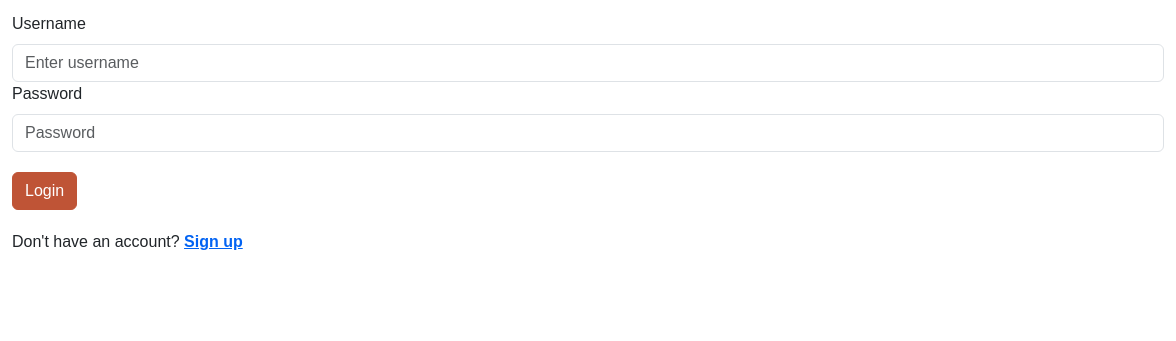
Test: Login Component › displays error message on failed login
The image size is (1176, 341).
Type "wronguser" into the field labelled "Username".
click(588, 63); type("wronguser")  # box [12,44,1164,82]
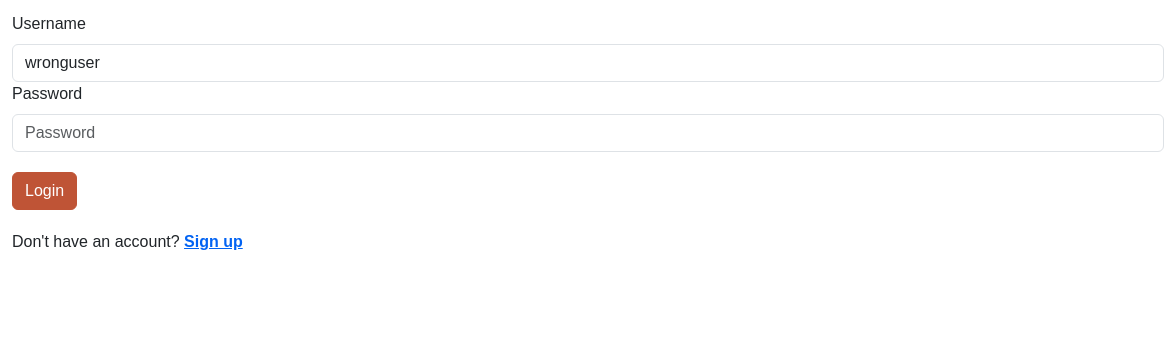
Type "wrongpassword" into the password field labelled "Password".
click(588, 133); type("wrongpassword")  # box [12,114,1164,152]
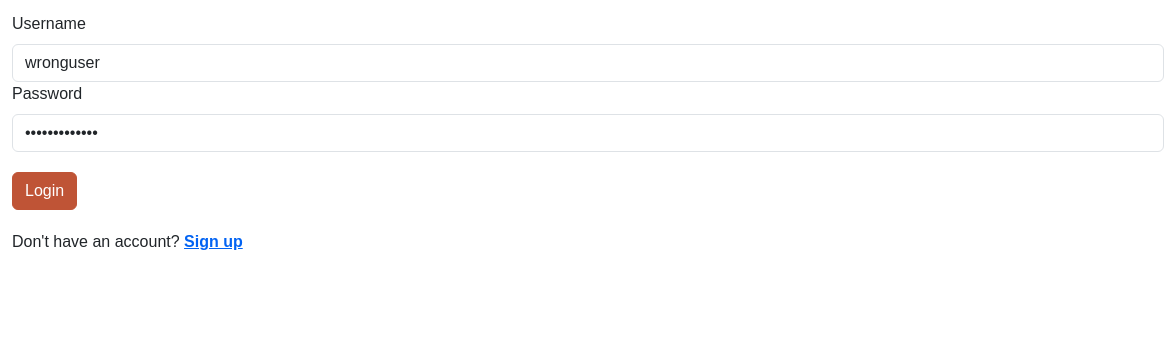
Click the button "Login".
click(45, 191)  # box [12,172,77,210]
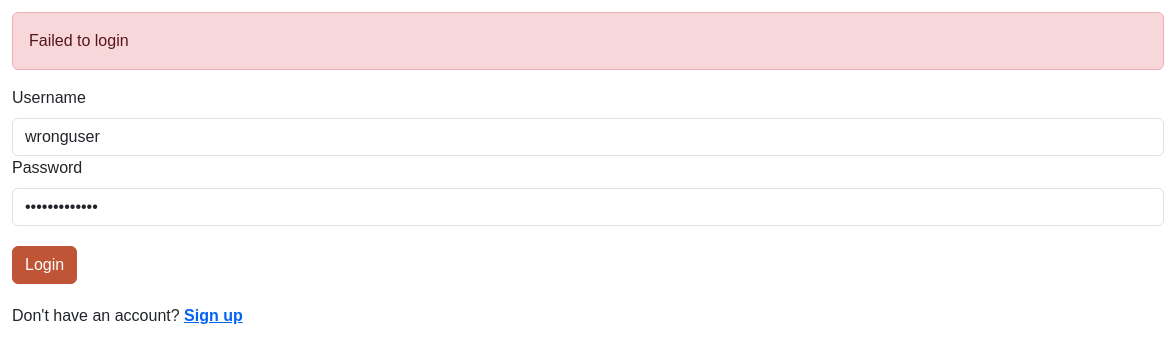
Now the text "Failed to login" is shown, box [12,12,1164,70]
